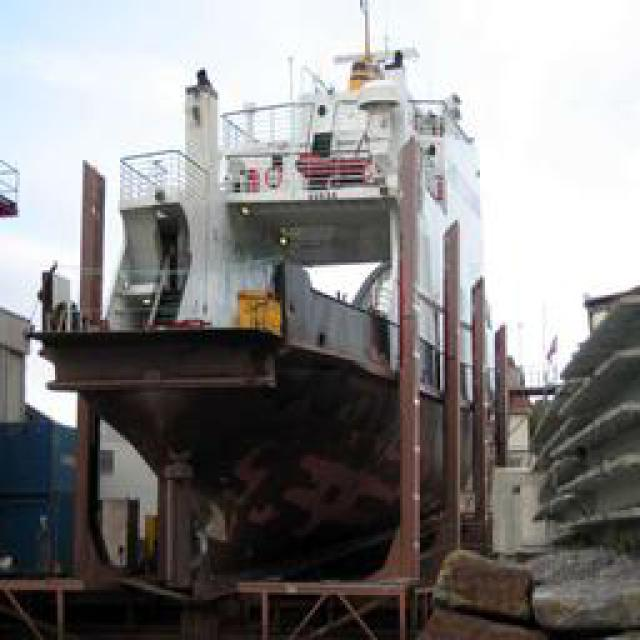Ship: (28, 2, 549, 564)
